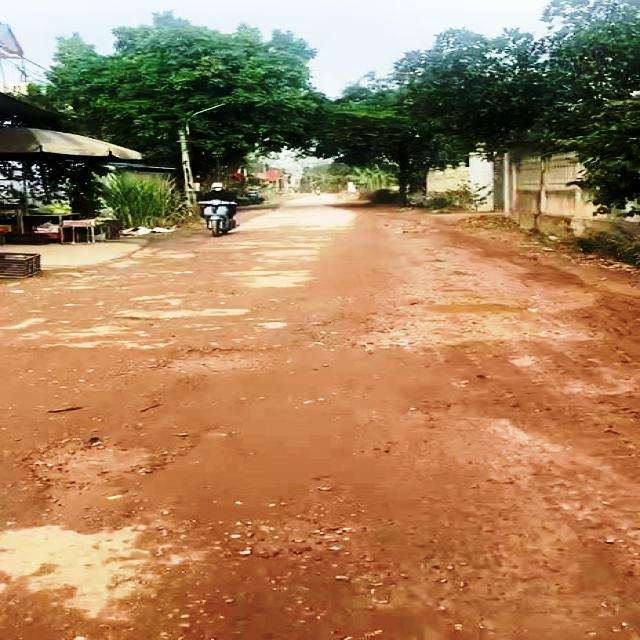pothole: (28, 435, 168, 490), (152, 345, 284, 377), (416, 295, 554, 318)
